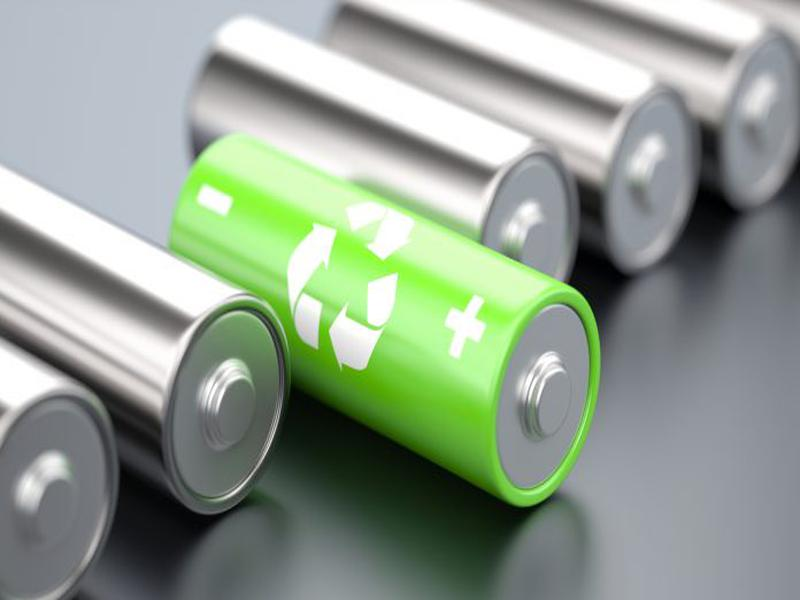battery: (174, 131, 603, 513), (1, 153, 291, 527), (318, 1, 706, 278)
